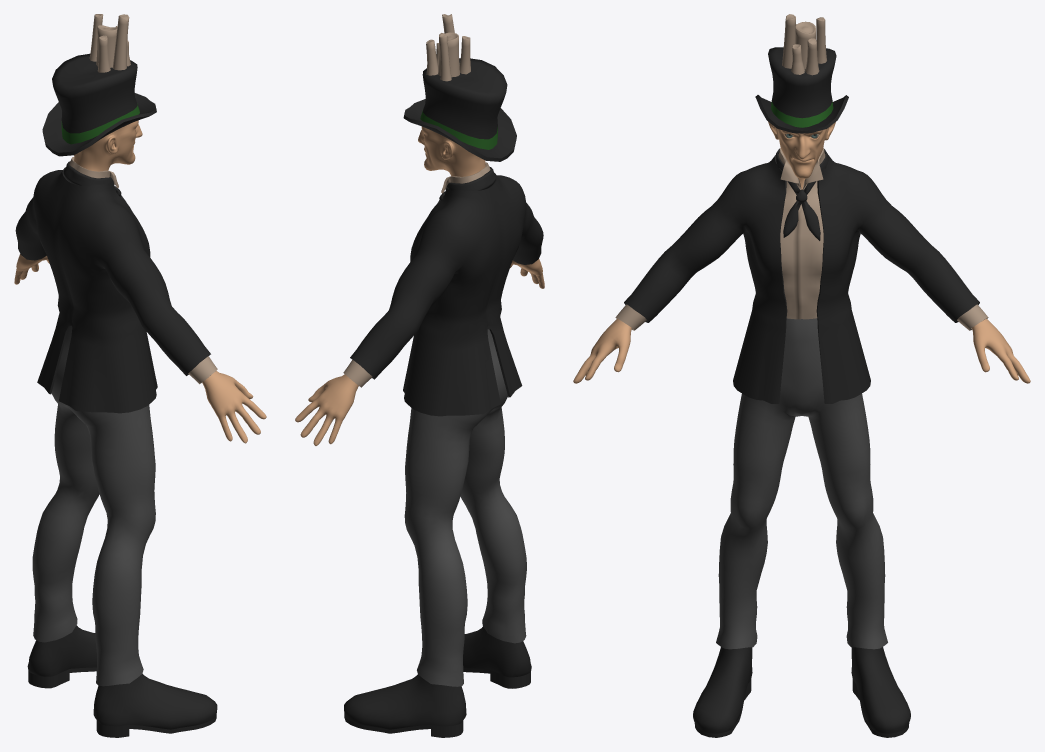
File: DapperDan_mockup01.FBX
3 renders of one model, left to right at view 1: azimuth 30°, elevation 25°; view 2: azimuth 150°, elevation 25°; view 3: azimuth 270°, elevation 25°, orthographic. The views are drawn at different scales.
Parts seen in each view (by area): view 1: Object005, Object002, Object004, Cylinder001, body, Object003, Cylinder003, Tie, Cylinder005; view 2: Object005, Object002, Object004, Cylinder001, body, Object003, Tie, Cylinder005, Cylinder004; view 3: Object005, Object002, Object004, Object003, body, Cylinder001, Tie.
Boxes of the visible parts, x1,y1,x2,y2 form: Object005: (15,167,210,413); Object002: (32,325,155,686); Object004: (27,625,217,737); Cylinder001: (42,53,156,156); body: (14,120,266,443); Object003: (69,157,217,384); Cylinder003: (113,14,129,70); Tie: (63,161,125,201); Cylinder005: (96,25,117,67); Object005: (350,173,543,416); Object002: (404,329,526,686); Object004: (344,626,531,737); Cylinder001: (403,58,516,161); body: (295,126,544,445); Object003: (343,162,490,387); Tie: (436,166,496,204); Cylinder005: (438,32,459,77); Cylinder004: (439,33,451,81); Object005: (624,155,979,403); Object002: (716,318,887,649); Object004: (693,647,910,737); Object003: (615,148,988,330); body: (573,121,1030,383); Cylinder001: (755,47,848,133); Tie: (776,148,828,240).
Size of the model in its own units: 35.12 by 190 by 113.
